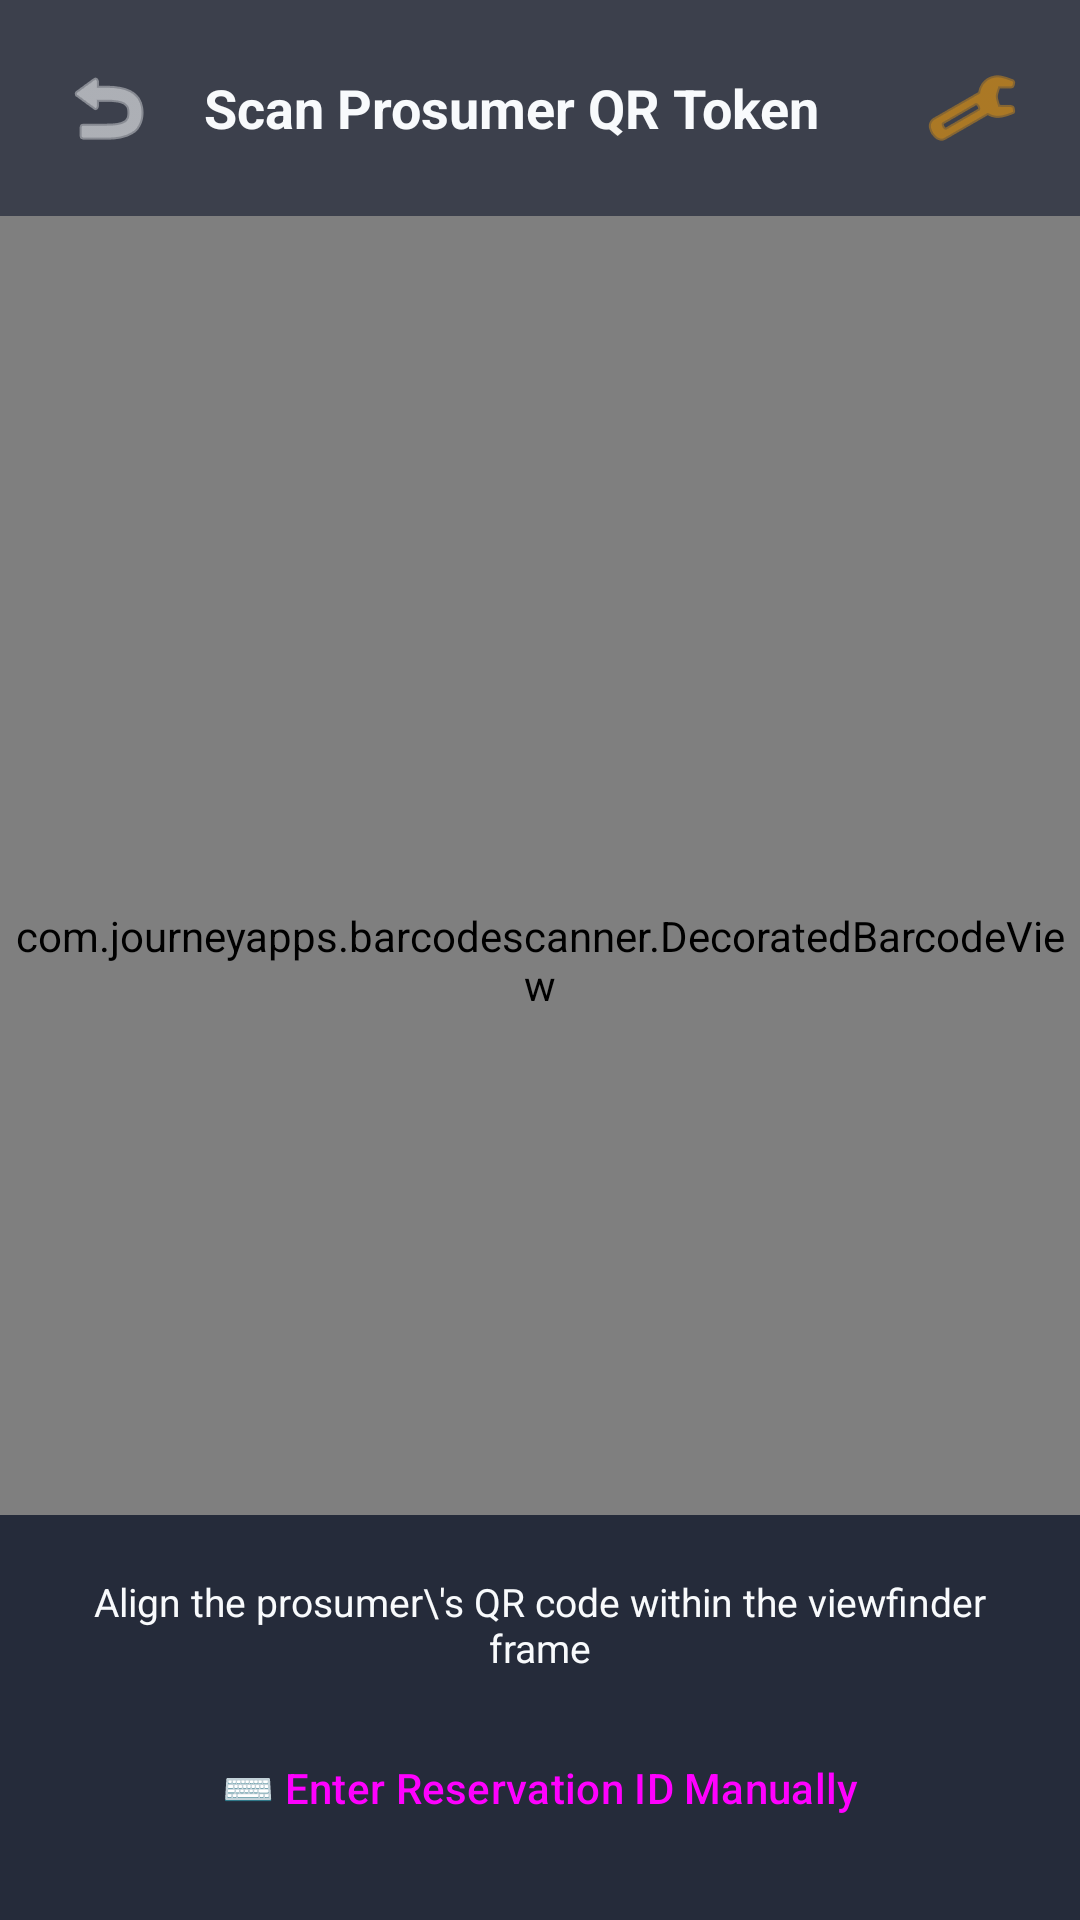

Point at icon controls on the screen. Image size 1080px x 1920px, points as point (x, y).
manage: point (972, 108)
revert: point (109, 108)
